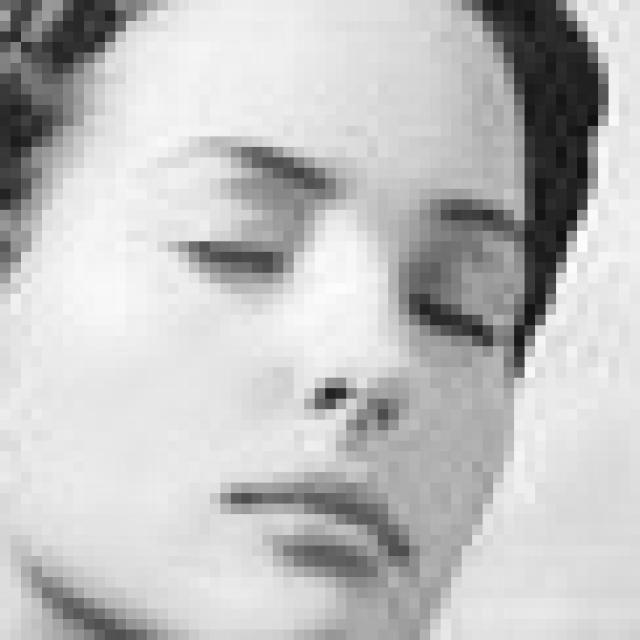real: (62, 20, 546, 553), (168, 174, 516, 370)
